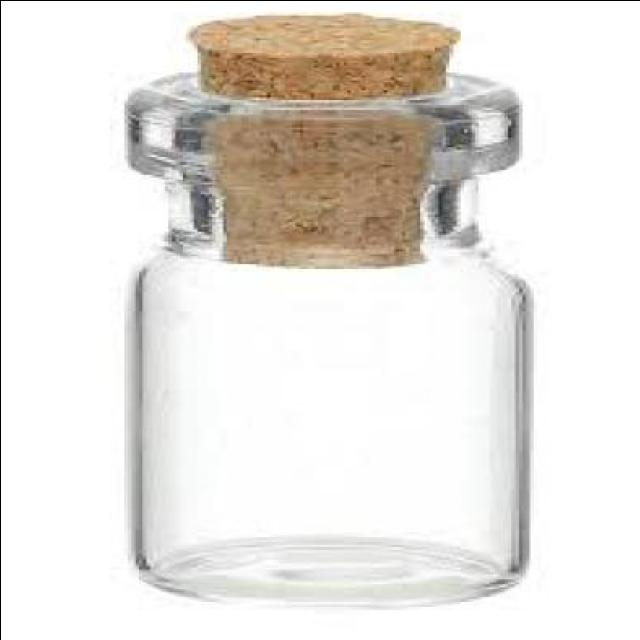kaca: (120, 70, 524, 601)
